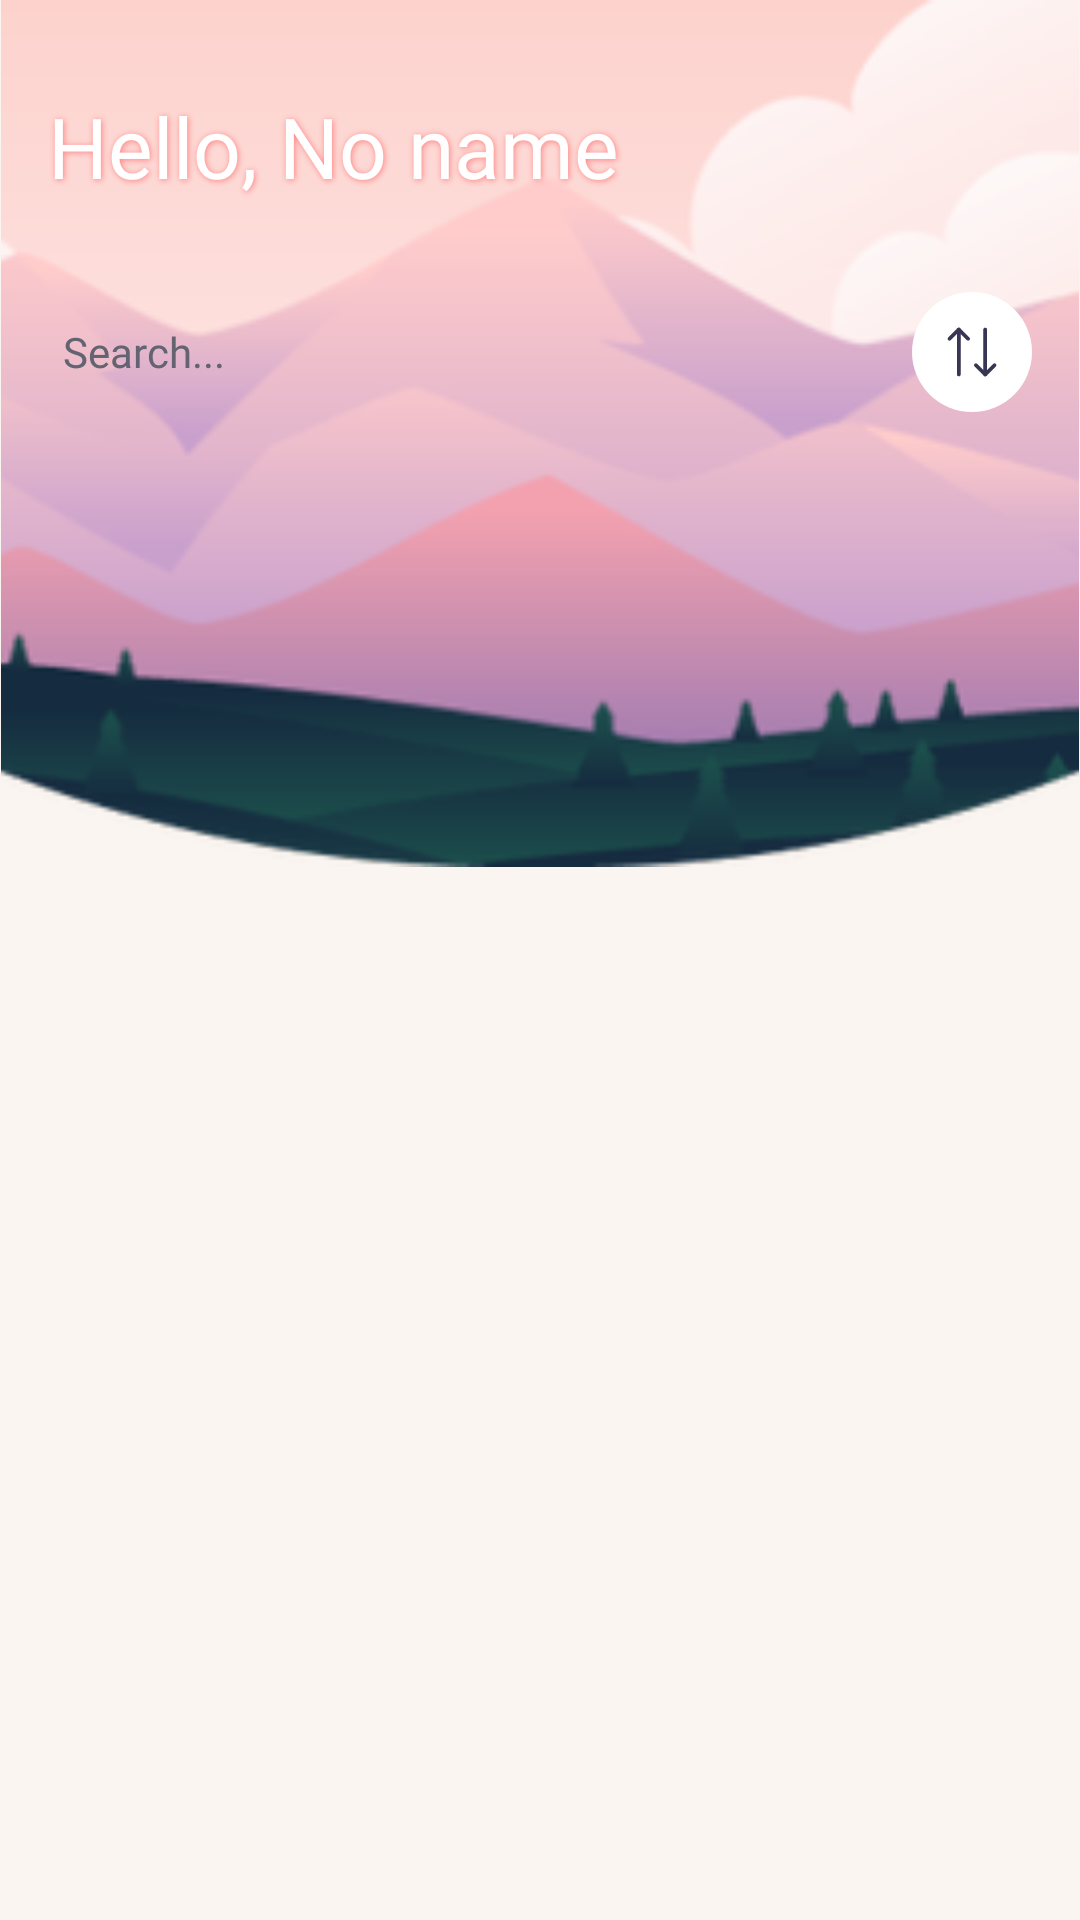

Screen size 1080 x 1920. Icon name, then its box in pixels as bbox(x1, y1, x2, y2):
sort: bbox(912, 292, 1032, 412)
